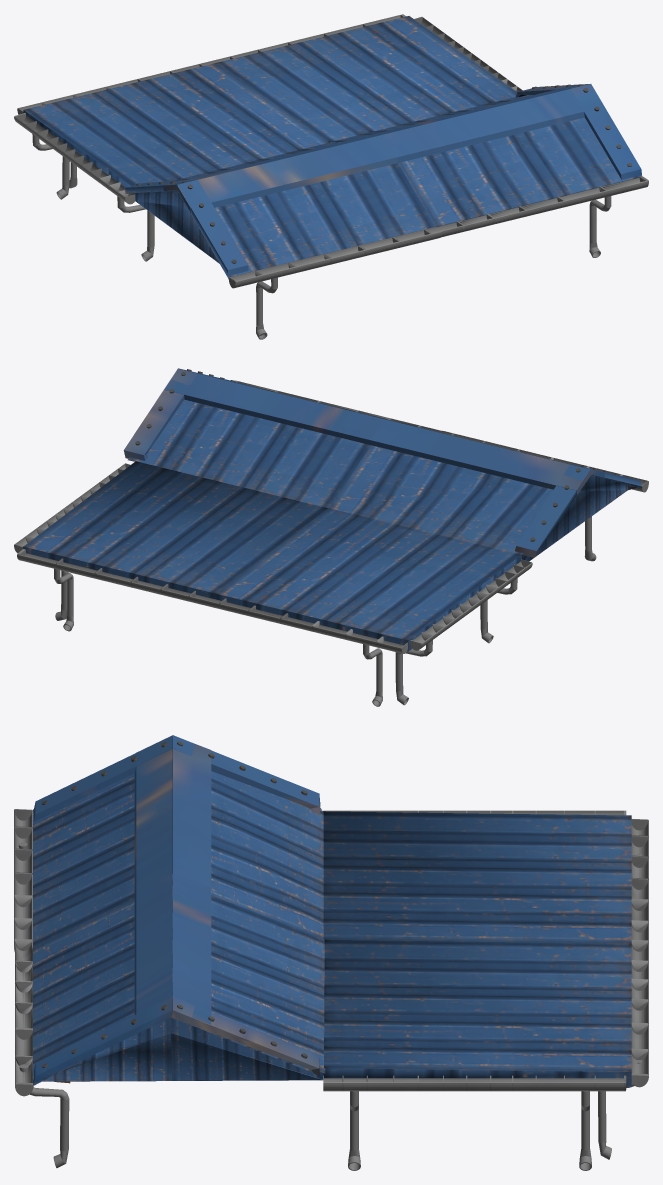
File: çatı yeni.fbx
3 views of the same model, one above another, from view 1: azimuth 30°, elevation 25°; view 2: azimuth 150°, elevation 25°; view 3: azimuth 270°, elevation 25° (orthographic). The views are drawn at different scales.
Visible parts, largest first — view 1: Plane.003, Plane.085, Circle; view 2: Plane.003, Plane.085, Circle; view 3: Plane.003, Circle, Plane.085.
Part boxes in pixels (bbox=[...]): Plane.003: bbox=[14, 14, 522, 261]; Plane.085: bbox=[124, 134, 441, 339]; Circle: bbox=[328, 84, 648, 257]; Plane.003: bbox=[14, 461, 532, 706]; Plane.085: bbox=[329, 419, 648, 561]; Circle: bbox=[123, 368, 442, 508]; Plane.003: bbox=[323, 810, 648, 1170]; Circle: bbox=[15, 873, 325, 1167]; Plane.085: bbox=[14, 735, 323, 957].
Bounding box in the file's own units: 1600 × 494 × 1557.
Materials: 1 (1 with a texture image).
